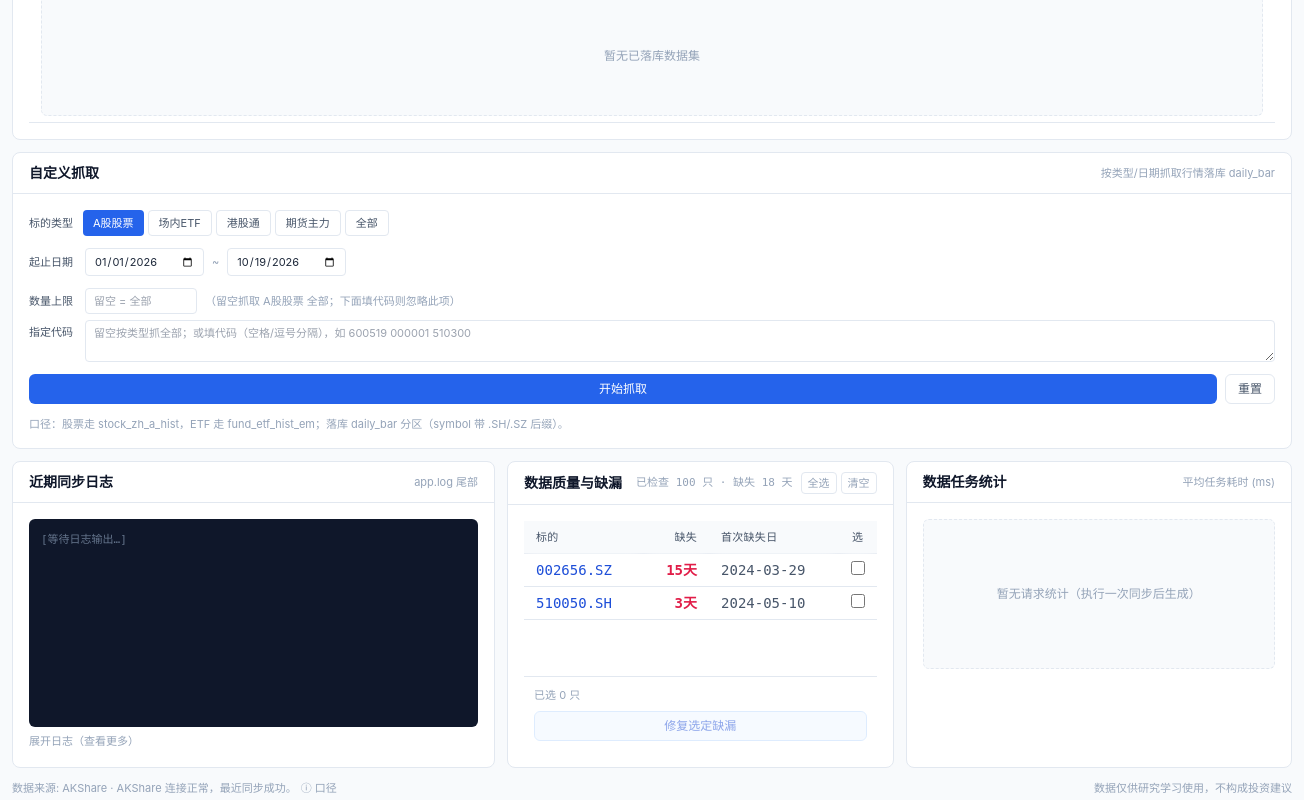
Test case: 数据中心：数据质量与缺漏标的跳转链接 › 点击复选框选中标的不影响路由链接
(page scrolled)
Expected: the link "002656.SZ" is shown, [536,560,612,580]
Click the checkbox in the row of "002656.SZ" at (858, 568), box [850,561,864,575]
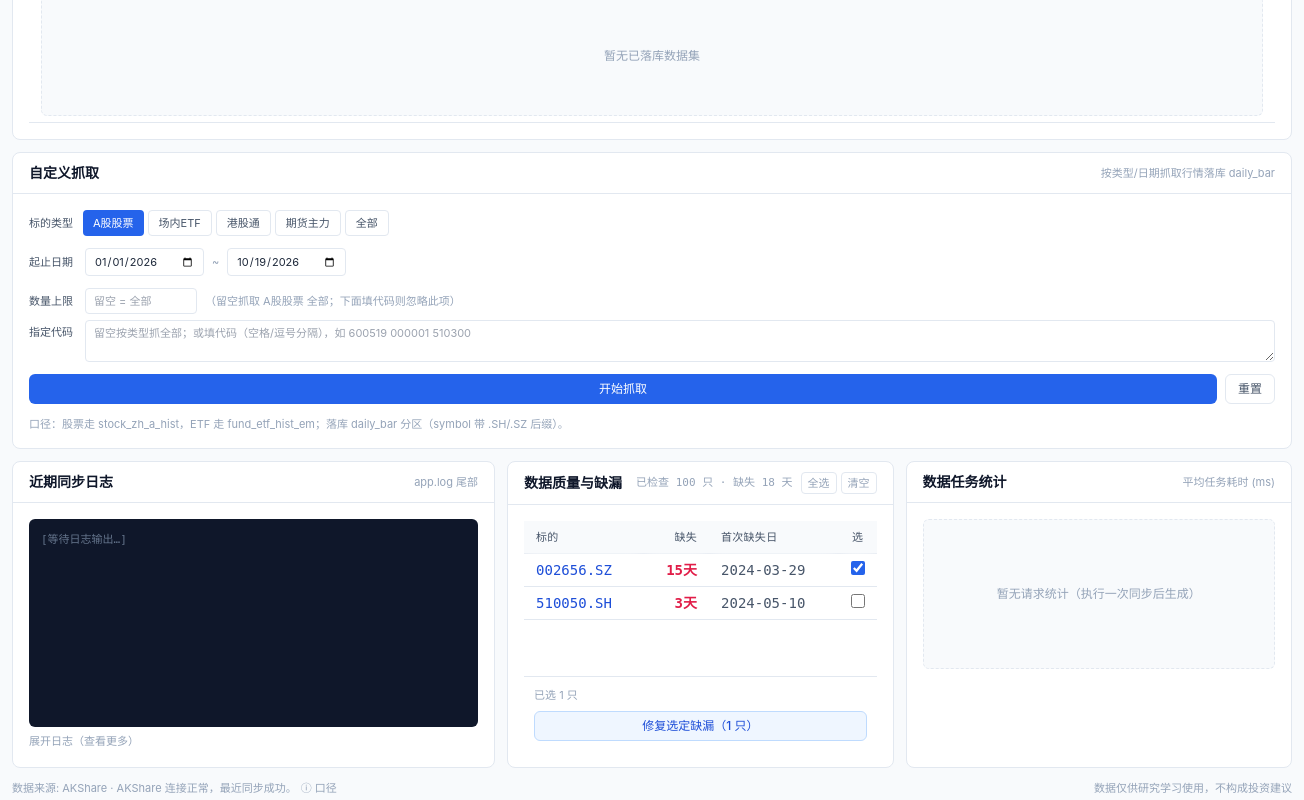
Result: the checkbox in the row of "002656.SZ" is checked at [850,561,864,575]
Result: the text "已选 1 只" is shown at [534,687,578,703]
